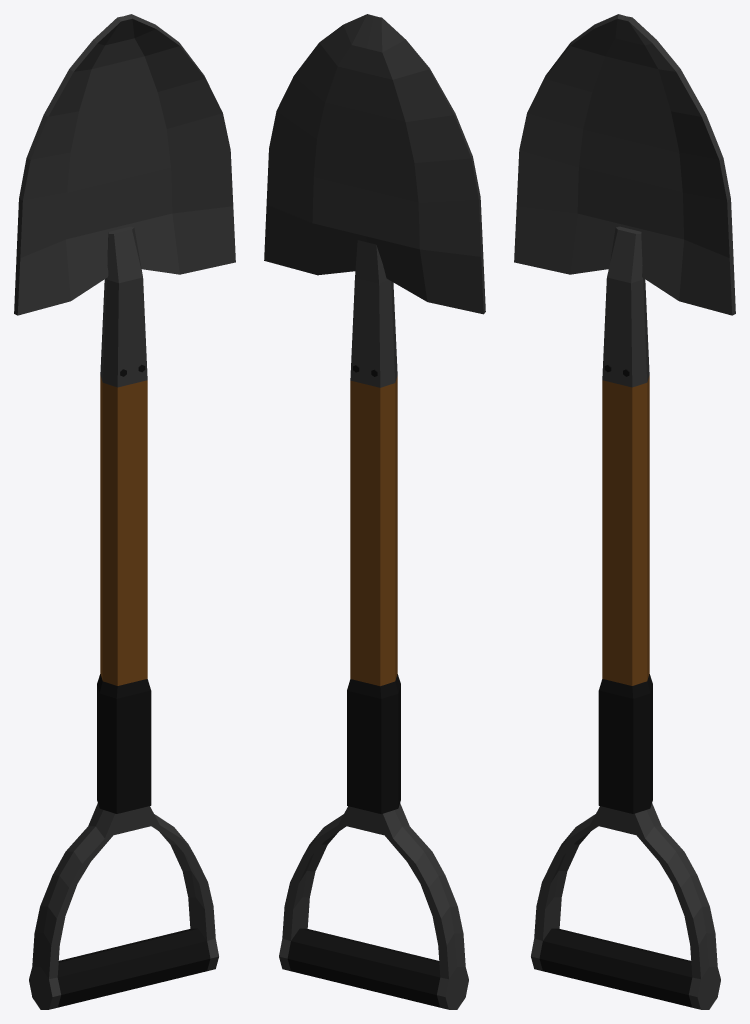
The model's file is Shovel.glb.
3 views of the same model, side by side, from view 1: azimuth 30°, elevation 25°; view 2: azimuth 150°, elevation 25°; view 3: azimuth 330°, elevation 25° (orthographic).
Visible parts, largest first — view 1: Shovel; view 2: Shovel; view 3: Shovel.
Boxes of the visible parts, left/top/right/bottom form: Shovel: left=14, top=14, right=235, bottom=1009; Shovel: left=264, top=14, right=485, bottom=1009; Shovel: left=514, top=14, right=735, bottom=1009.
Size of the model in its own units: 0.2157 by 0.9137 by 0.0403.
